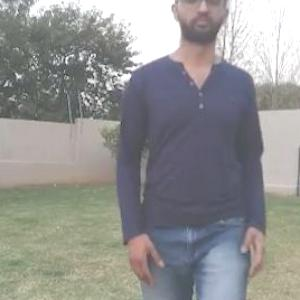follow: (149, 0, 252, 299)
